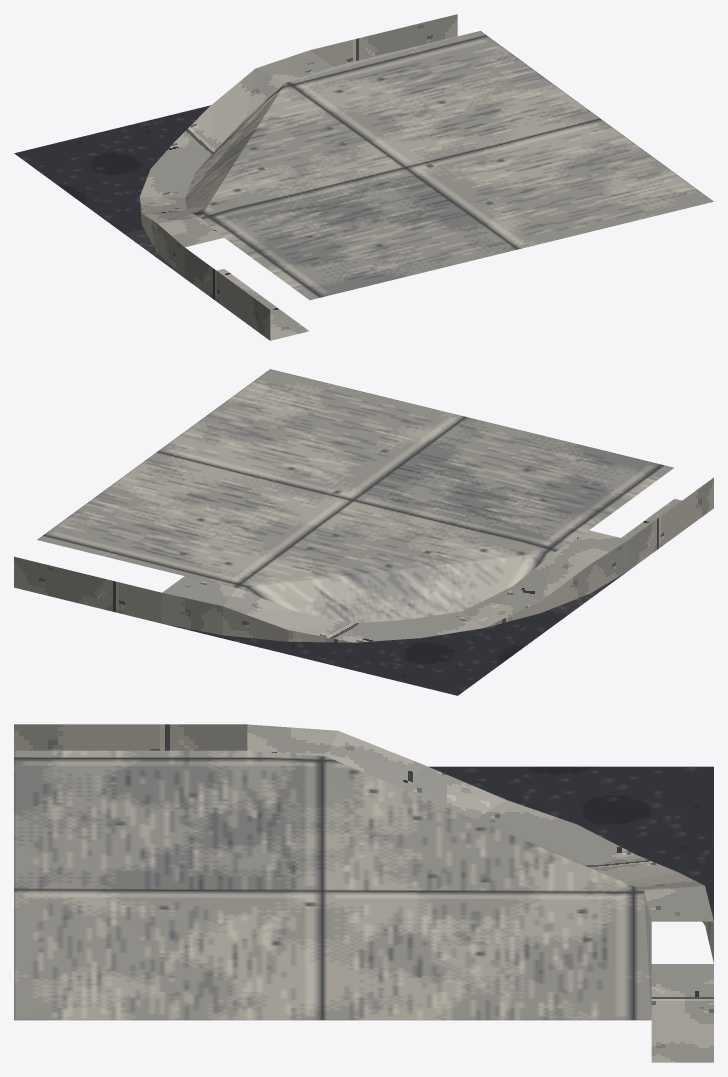
The model's file is SW_Corner_Rounded.obj.
The picture shows the model from 3 angles, top to bottom: view 1: azimuth 30°, elevation 25°; view 2: azimuth 150°, elevation 25°; view 3: azimuth 270°, elevation 25°; orthographic projection. The views are drawn at different scales.
Parts seen in each view (by area): view 1: SW_Corner_Rounded_Mesh_M_Road_SidewalkConcrete, SW_Corner_Rounded_Mesh_M_Road_CurbConcrete, SW_Corner_Rounded_Mesh_M_Road_Asphalt; view 2: SW_Corner_Rounded_Mesh_M_Road_SidewalkConcrete, SW_Corner_Rounded_Mesh_M_Road_CurbConcrete, SW_Corner_Rounded_Mesh_M_Road_Asphalt; view 3: SW_Corner_Rounded_Mesh_M_Road_SidewalkConcrete, SW_Corner_Rounded_Mesh_M_Road_CurbConcrete, SW_Corner_Rounded_Mesh_M_Road_Asphalt.
Part boxes in pixels (x1=…): SW_Corner_Rounded_Mesh_M_Road_SidewalkConcrete: x1=185, y1=31, x2=713, y2=300; SW_Corner_Rounded_Mesh_M_Road_CurbConcrete: x1=139, y1=14, x2=457, y2=340; SW_Corner_Rounded_Mesh_M_Road_Asphalt: x1=14, y1=105, x2=210, y2=277; SW_Corner_Rounded_Mesh_M_Road_SidewalkConcrete: x1=37, y1=369, x2=673, y2=623; SW_Corner_Rounded_Mesh_M_Road_CurbConcrete: x1=14, y1=477, x2=713, y2=642; SW_Corner_Rounded_Mesh_M_Road_Asphalt: x1=165, y1=572, x2=626, y2=695; SW_Corner_Rounded_Mesh_M_Road_SidewalkConcrete: x1=14, y1=750, x2=651, y2=1020; SW_Corner_Rounded_Mesh_M_Road_CurbConcrete: x1=14, y1=724, x2=713, y2=1062; SW_Corner_Rounded_Mesh_M_Road_Asphalt: x1=429, y1=766, x2=713, y2=920.
Size of the model in its own units: 2.25 by 0.15 by 2.25.
Materials: 3 (3 with a texture image).
